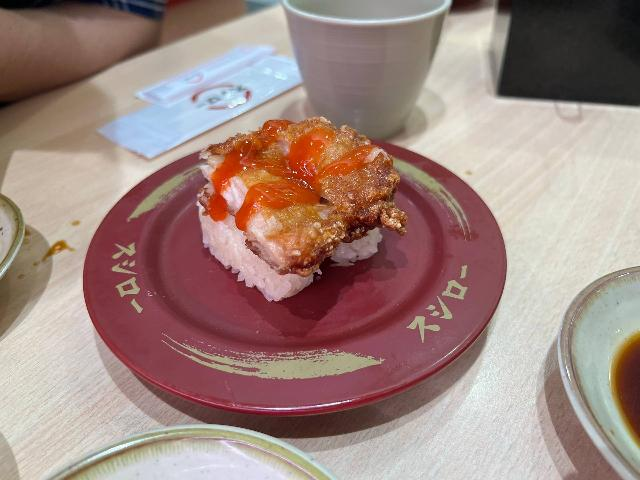janred: (94, 122, 454, 375)
